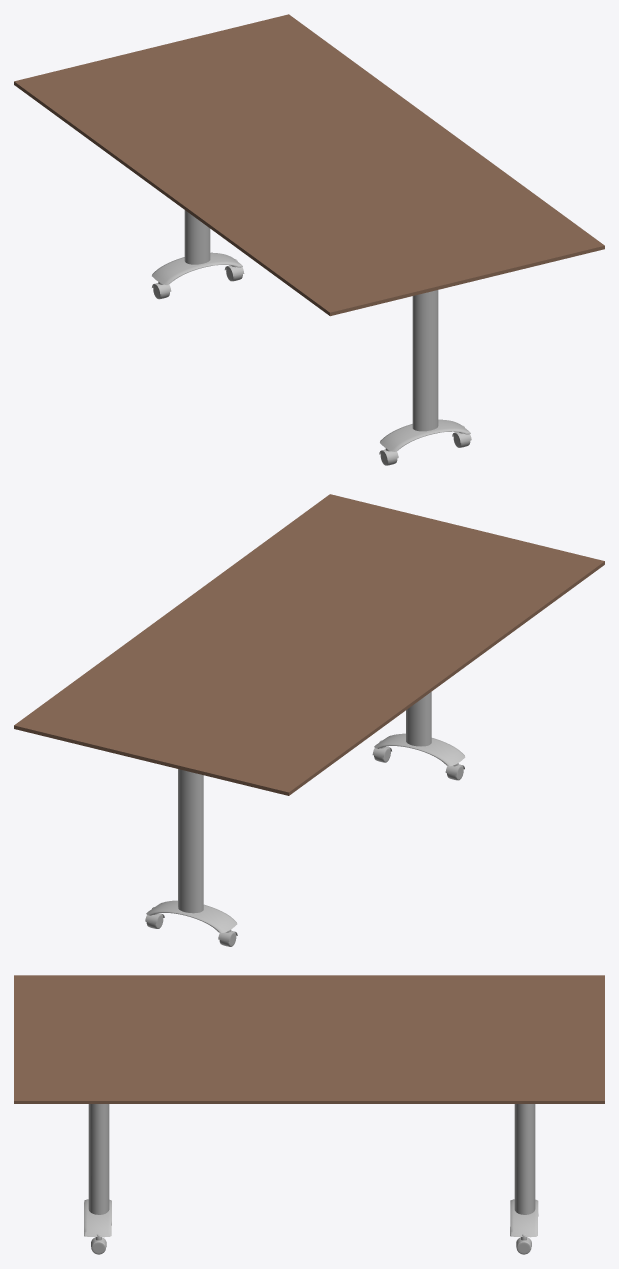
File: Desk 1.fbx
3 renders of one model, top to bottom at view 1: azimuth 30°, elevation 25°; view 2: azimuth 150°, elevation 25°; view 3: azimuth 270°, elevation 25°, orthographic. The views are drawn at different scales.
Visible parts, largest first — view 1: pasted__pCube3, pasted__pasted__pCylinder4, pasted__pasted__pasted__pCylinder4, pasted__pasted__pasted__pPipe2, pasted__pasted__pPipe2; view 2: pasted__pCube3, pasted__pasted__pasted__pCylinder4, pasted__pasted__pCylinder4, pasted__pasted__pPipe2, pasted__pasted__pasted__pPipe2; view 3: pasted__pCube3, pasted__pasted__pasted__pCylinder4, pasted__pasted__pCylinder4, pasted__pasted__pPipe2, pasted__pasted__pasted__pPipe2.
Boxes of the visible parts, left/top/right/bottom form: pasted__pCube3: left=14, top=14, right=604, bottom=316; pasted__pasted__pCylinder4: left=412, top=290, right=438, bottom=431; pasted__pasted__pasted__pCylinder4: left=184, top=210, right=210, bottom=264; pasted__pasted__pasted__pPipe2: left=380, top=419, right=470, bottom=451; pasted__pasted__pPipe2: left=152, top=252, right=242, bottom=284; pasted__pCube3: left=14, top=494, right=604, bottom=795; pasted__pasted__pasted__pCylinder4: left=178, top=769, right=203, bottom=913; pasted__pasted__pCylinder4: left=406, top=692, right=431, bottom=746; pasted__pasted__pPipe2: left=146, top=900, right=237, bottom=932; pasted__pasted__pasted__pPipe2: left=374, top=733, right=465, bottom=766; pasted__pCube3: left=14, top=975, right=604, bottom=1103; pasted__pasted__pasted__pCylinder4: left=514, top=1104, right=535, bottom=1214; pasted__pasted__pCylinder4: left=88, top=1104, right=109, bottom=1214; pasted__pasted__pPipe2: left=510, top=1199, right=538, bottom=1237; pasted__pasted__pasted__pPipe2: left=84, top=1199, right=111, bottom=1237.
Bounding box in the file's own units: 6.89 × 5.04 × 13.73.
